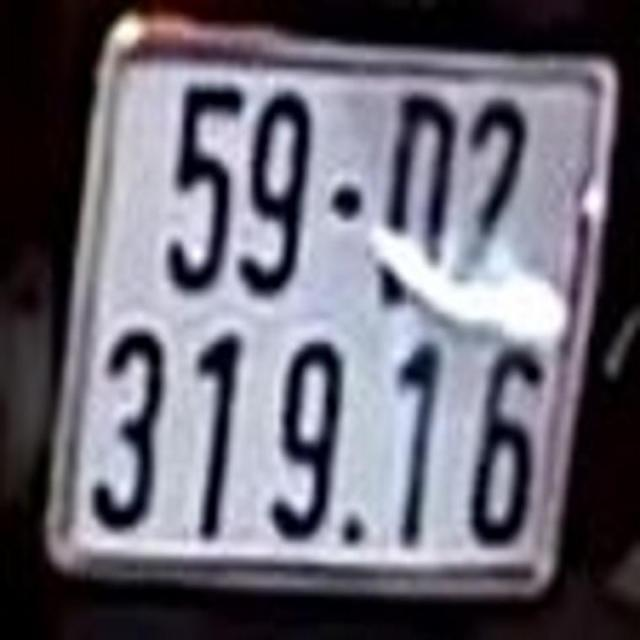1: (386, 340, 449, 550), (187, 324, 244, 543)
2: (458, 85, 530, 308)
3: (94, 318, 164, 538)
5: (170, 80, 237, 297)
6: (464, 340, 551, 556)
9: (268, 331, 340, 544), (244, 83, 314, 300)
D: (374, 90, 452, 313)
